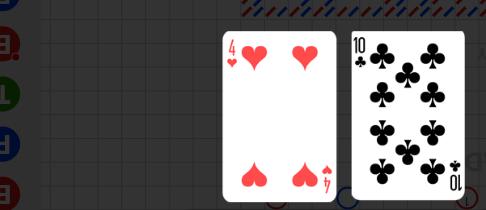10C: (354, 36, 369, 70)
4H: (226, 38, 240, 70)
